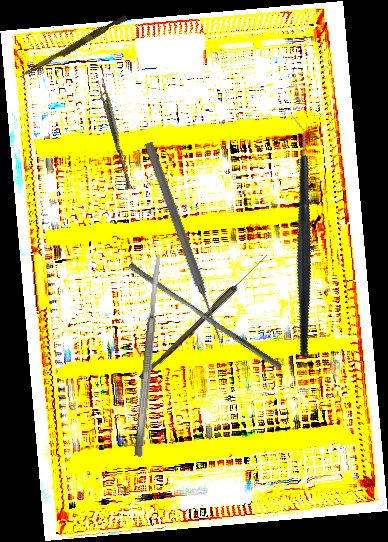Chopper: (213, 113, 385, 359)
Pusher: (124, 261, 286, 371), (141, 141, 226, 340), (18, 12, 128, 83)
Spatula Surgical: (132, 253, 165, 458)
Surgical Spoon: (139, 251, 270, 383)
Tissue Forceps: (94, 77, 136, 191)
